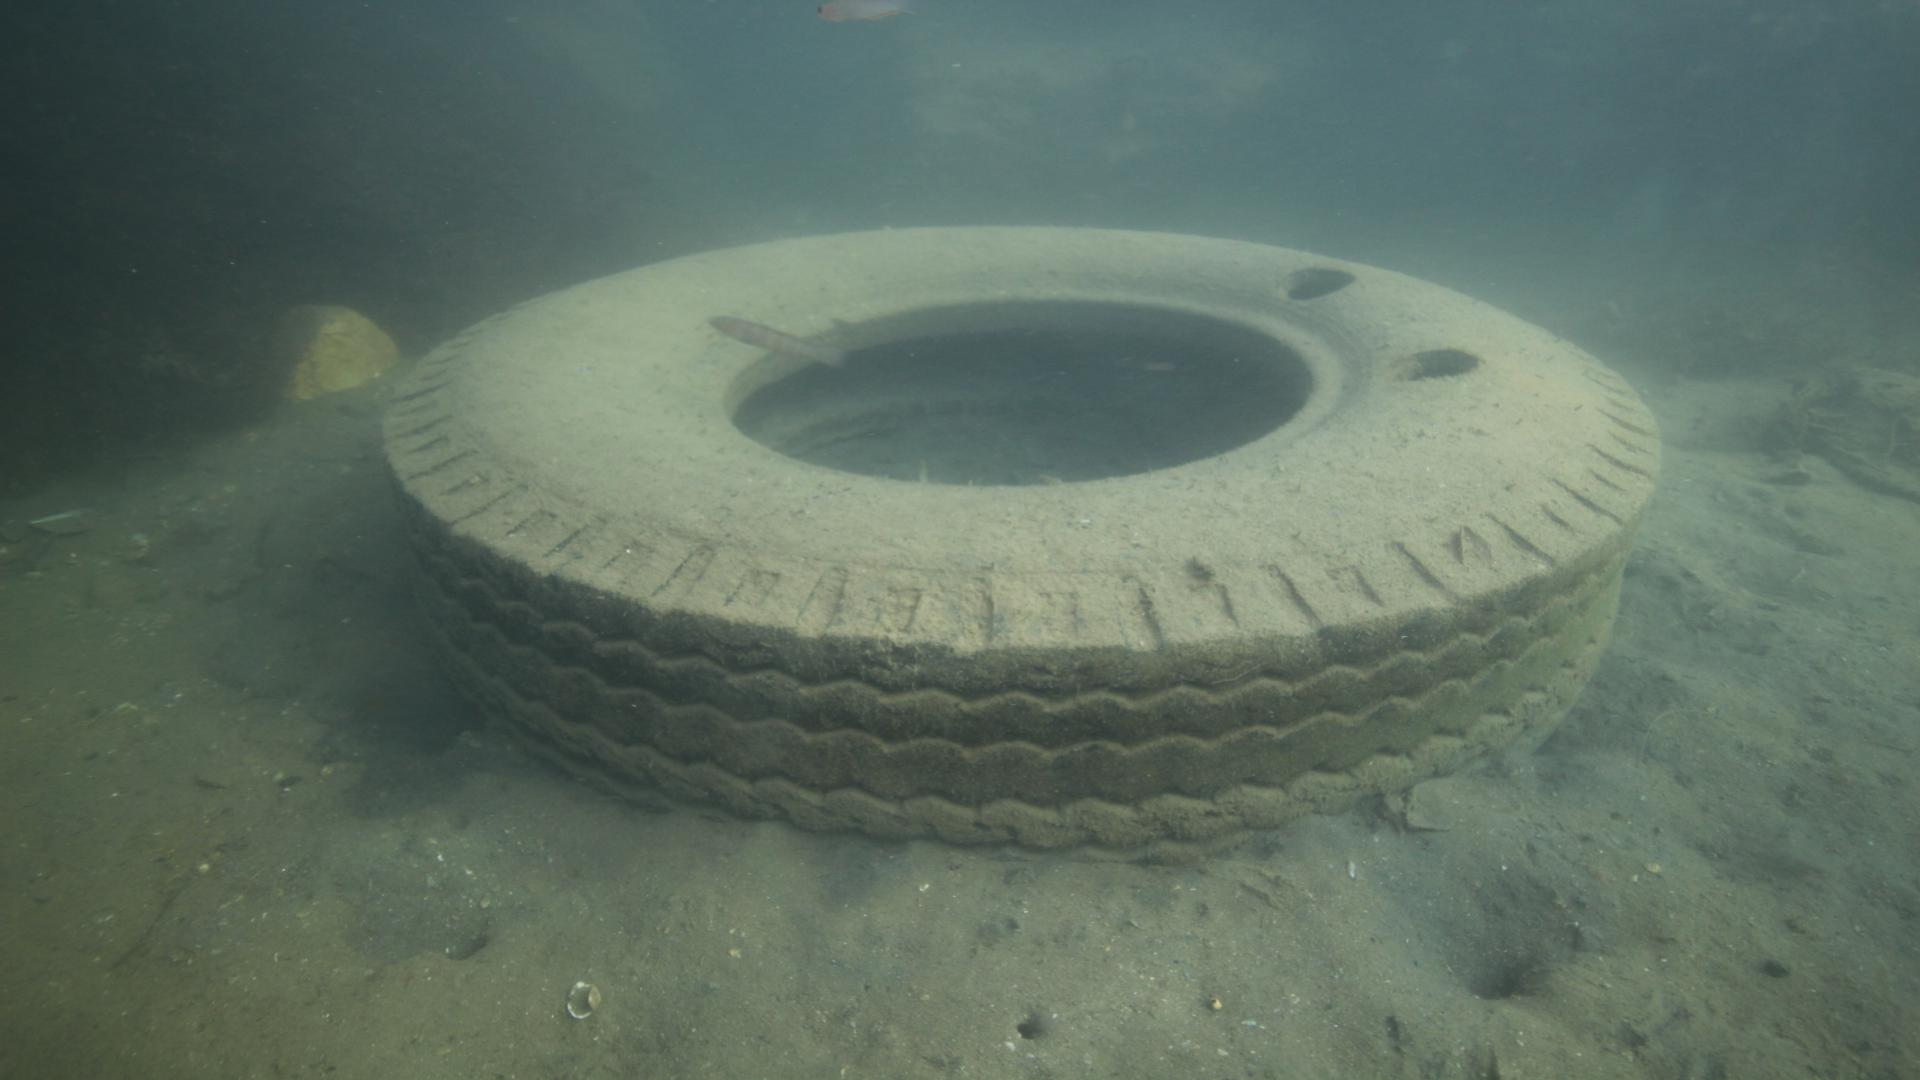tire: (378, 222, 1663, 869)
